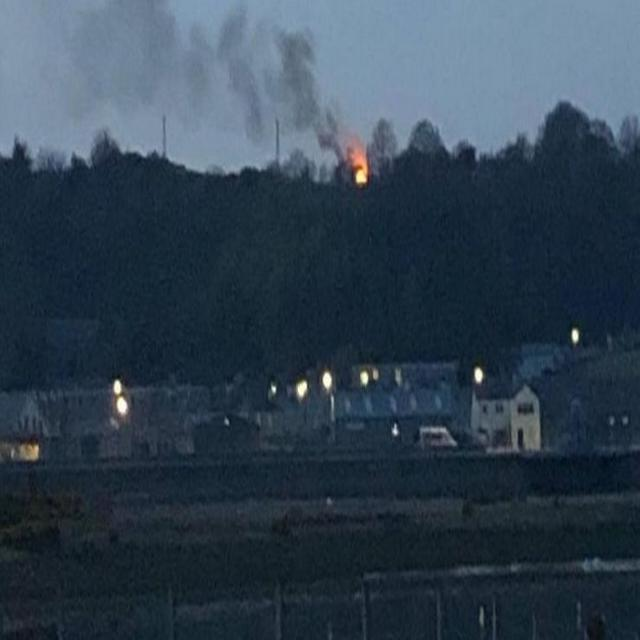Fire: (352, 152, 369, 184)
